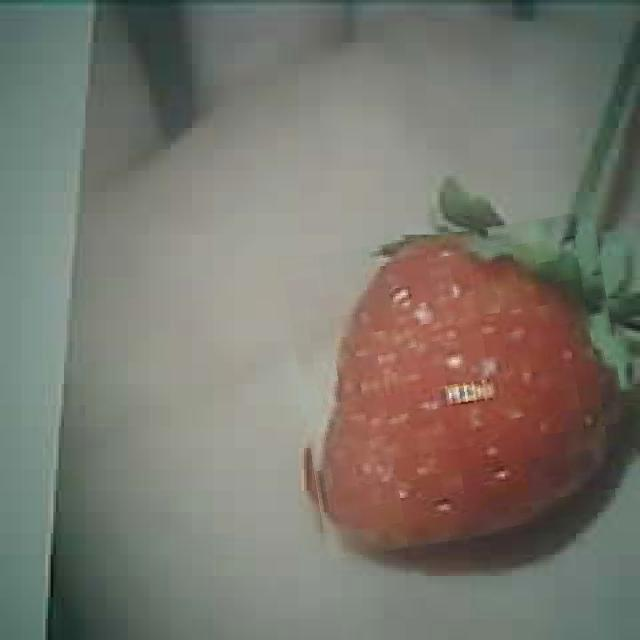strawberry: (292, 222, 630, 548)
